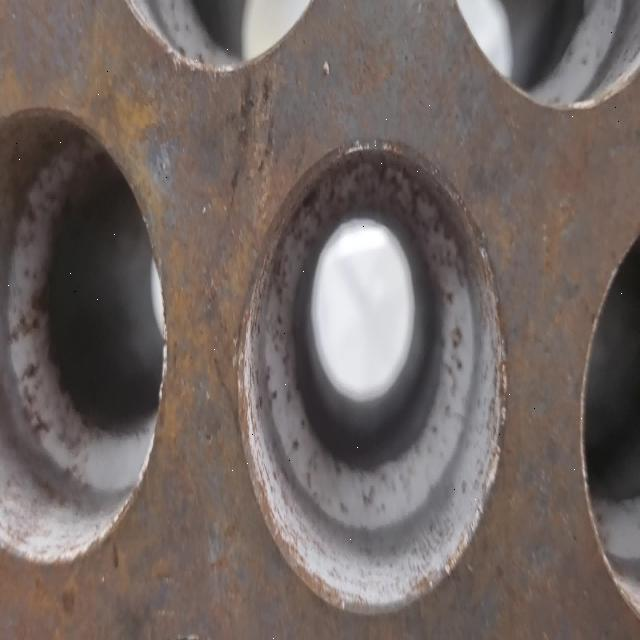Hole: (234, 140, 503, 592), (1, 102, 168, 574), (582, 130, 639, 636), (468, 0, 638, 110)
